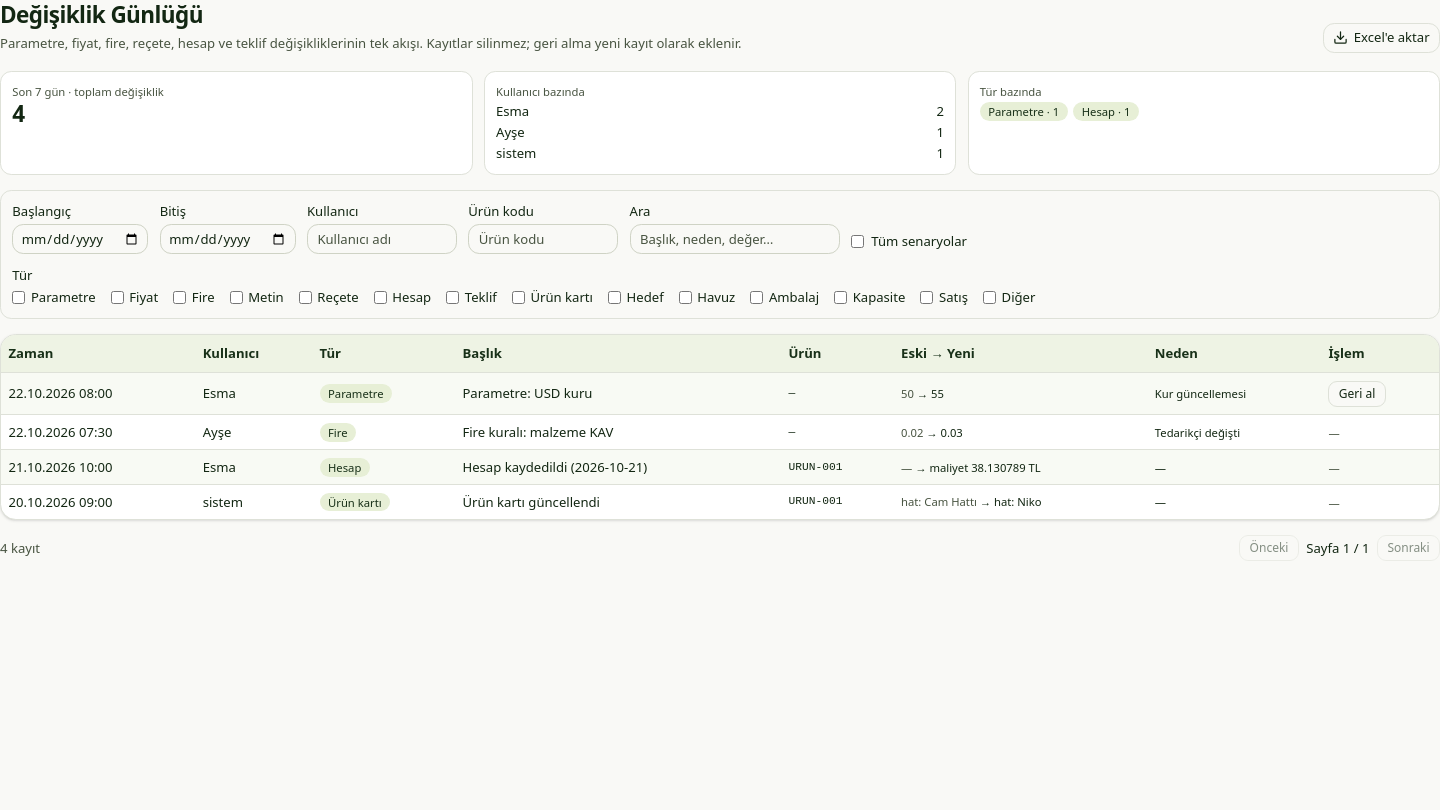
Test: Değişiklik Günlüğü › geri alma hatasında onay penceresi açık kalır ve hata gösterir
The image size is (1440, 810).
Click the button with aria-label "Geri al parametre:12" at (1357, 394), box [1328,380,1386,407]
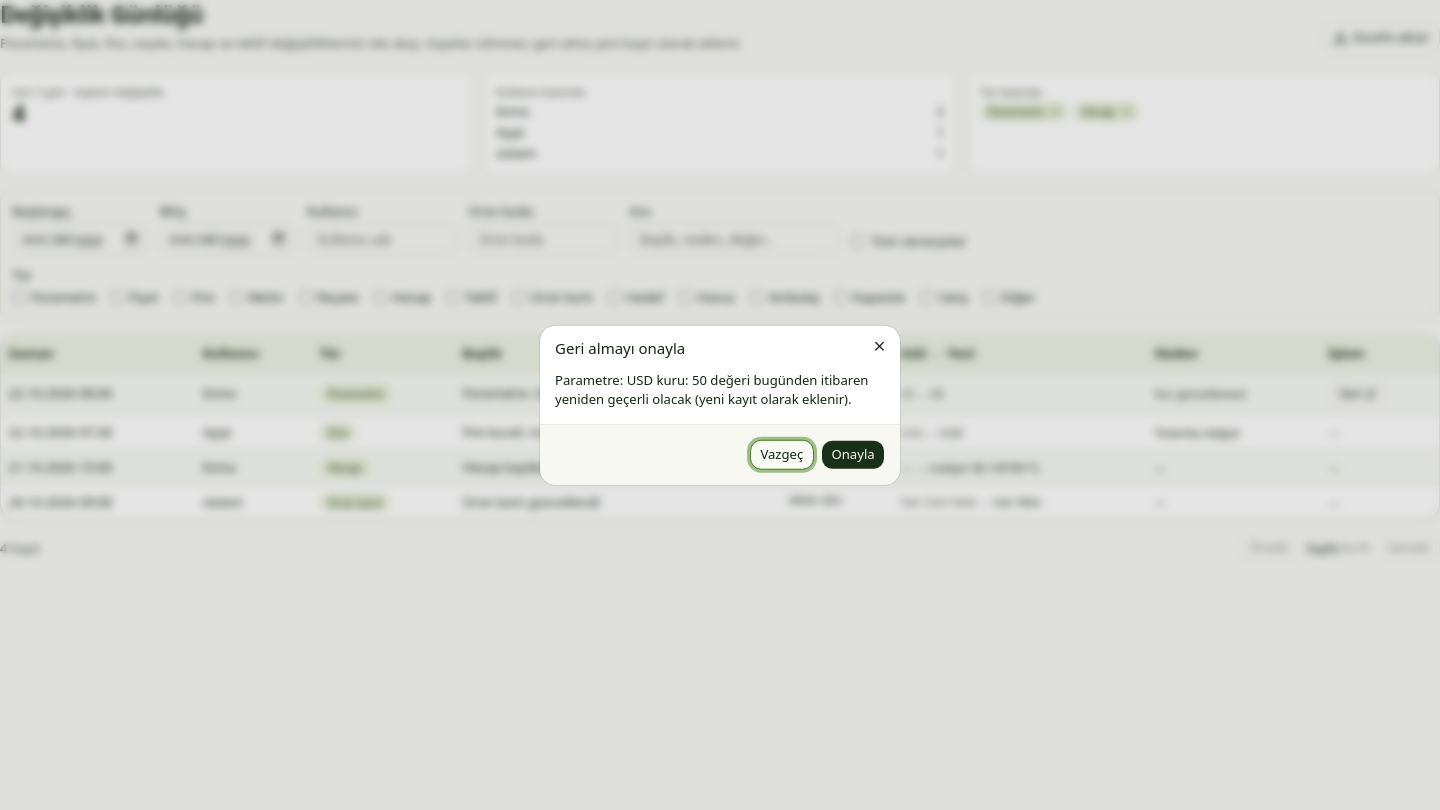
Click the button "Onayla" at (853, 454), box [821,439,885,469]
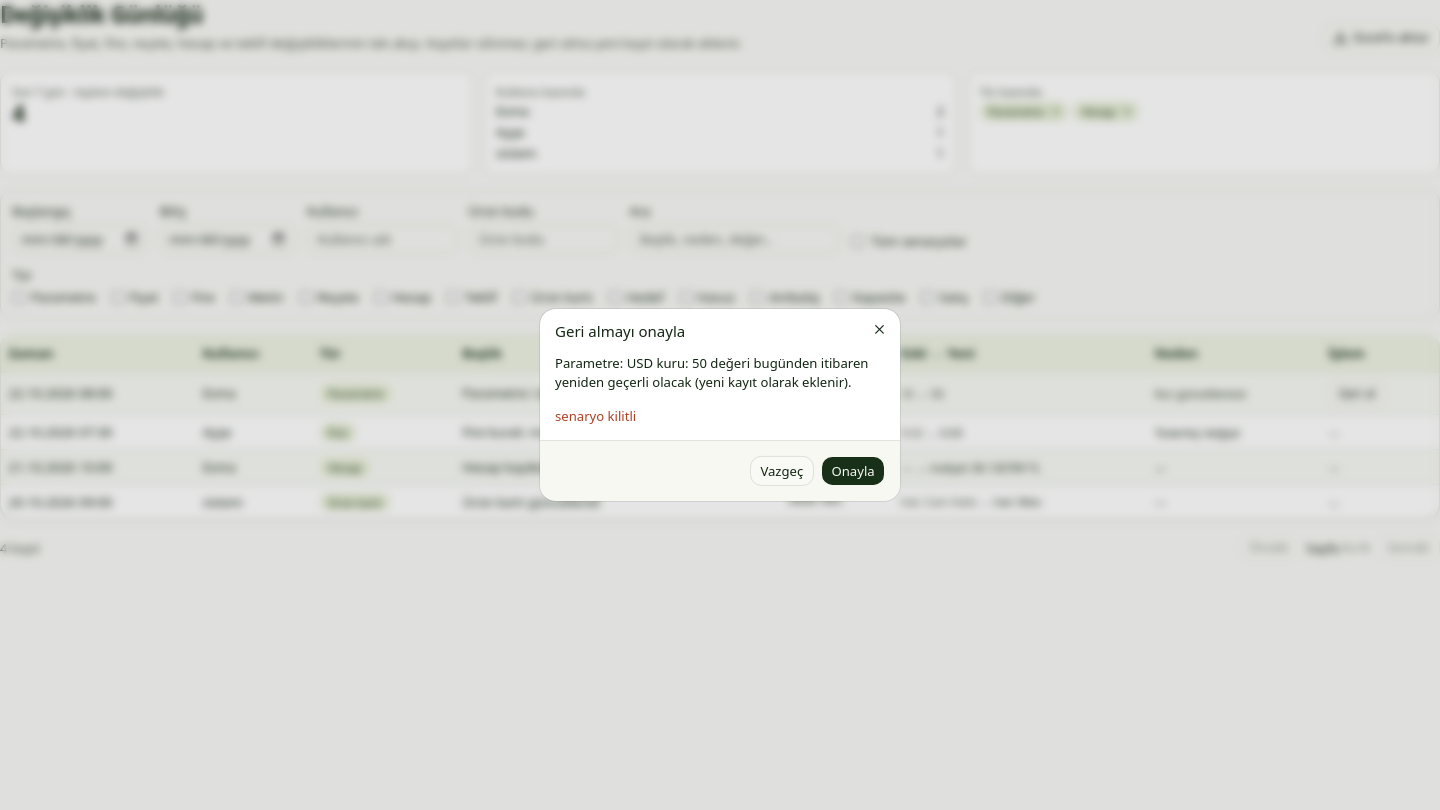
expect the message reads "senaryo kilitli": met, box [555,406,636,424]
